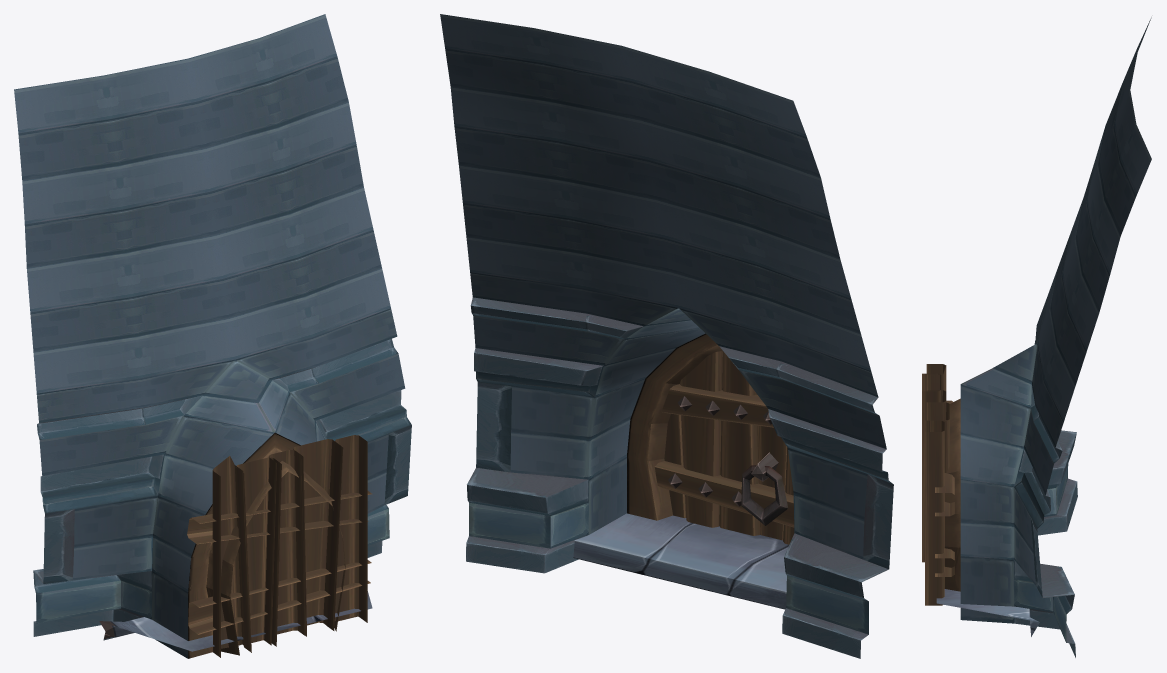
Rendered from A_CR_GEN_WallPanel_04.fbx.
3 views of the same model, side by side, from view 1: azimuth 30°, elevation 25°; view 2: azimuth 150°, elevation 25°; view 3: azimuth 270°, elevation 25° (orthographic). The views are drawn at different scales.
Visible parts, largest first — view 1: A_CR_GEN_WallPanel_04; view 2: A_CR_GEN_WallPanel_04; view 3: A_CR_GEN_WallPanel_04.
Part boxes in pixels (bbox=[...]): A_CR_GEN_WallPanel_04: bbox=[14, 14, 411, 658]; A_CR_GEN_WallPanel_04: bbox=[440, 14, 893, 658]; A_CR_GEN_WallPanel_04: bbox=[922, 17, 1151, 657].
Bounding box in the file's own units: 627 × 841 × 358.
Materials: 2 (2 with a texture image).
